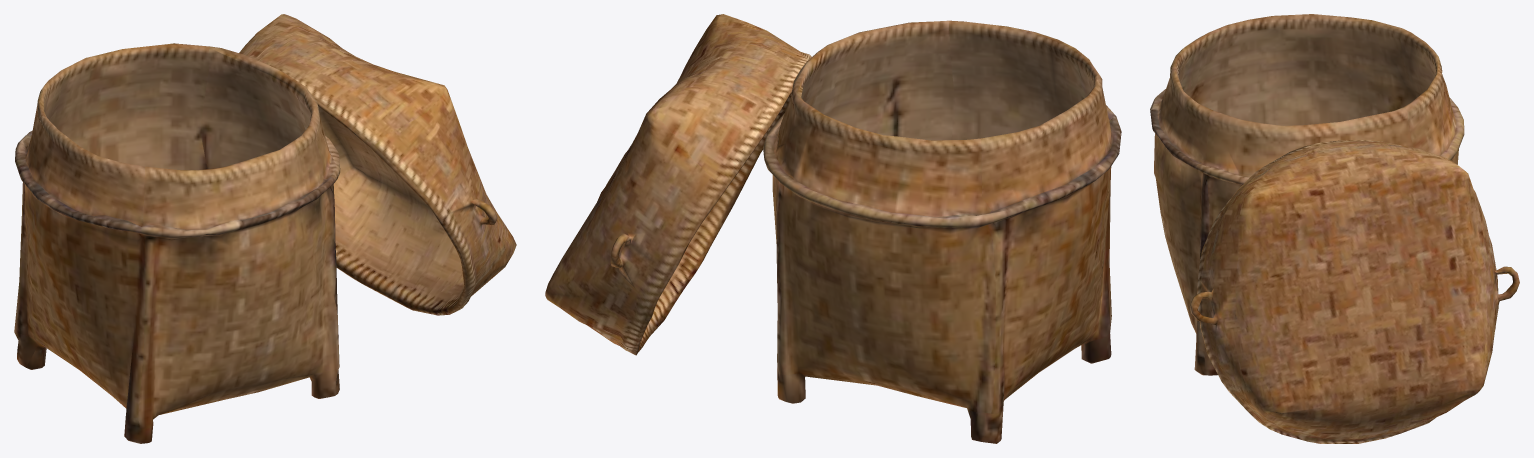
Rendered from basket.glb.
3 renders of one model, left to right at view 1: azimuth 30°, elevation 25°; view 2: azimuth 150°, elevation 25°; view 3: azimuth 270°, elevation 25°, orthographic. The views are drawn at different scales.
Parts seen in each view (by area): view 1: wicker_basket_02_base; view 2: wicker_basket_02_base; view 3: wicker_basket_02_base.
Boxes of the visible parts, x1=… form: wicker_basket_02_base: x1=14, y1=14, x2=516, y2=443; wicker_basket_02_base: x1=545, y1=14, x2=1121, y2=443; wicker_basket_02_base: x1=1150, y1=14, x2=1519, y2=443.
Size of the model in its own units: 0.3469 by 0.2004 by 0.2541.
1 material, 1 textured.
